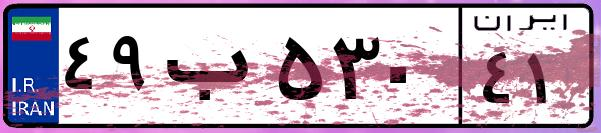0: (385, 28, 445, 110)
1: (525, 38, 570, 115)
3: (330, 28, 385, 110)
4: (57, 26, 110, 100), (475, 38, 525, 113)
5: (270, 28, 330, 110)
9: (110, 28, 158, 98)
ب: (158, 20, 270, 120)
